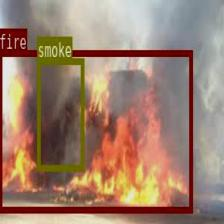fire: (0, 49, 192, 211)
smoke: (36, 57, 84, 169)
